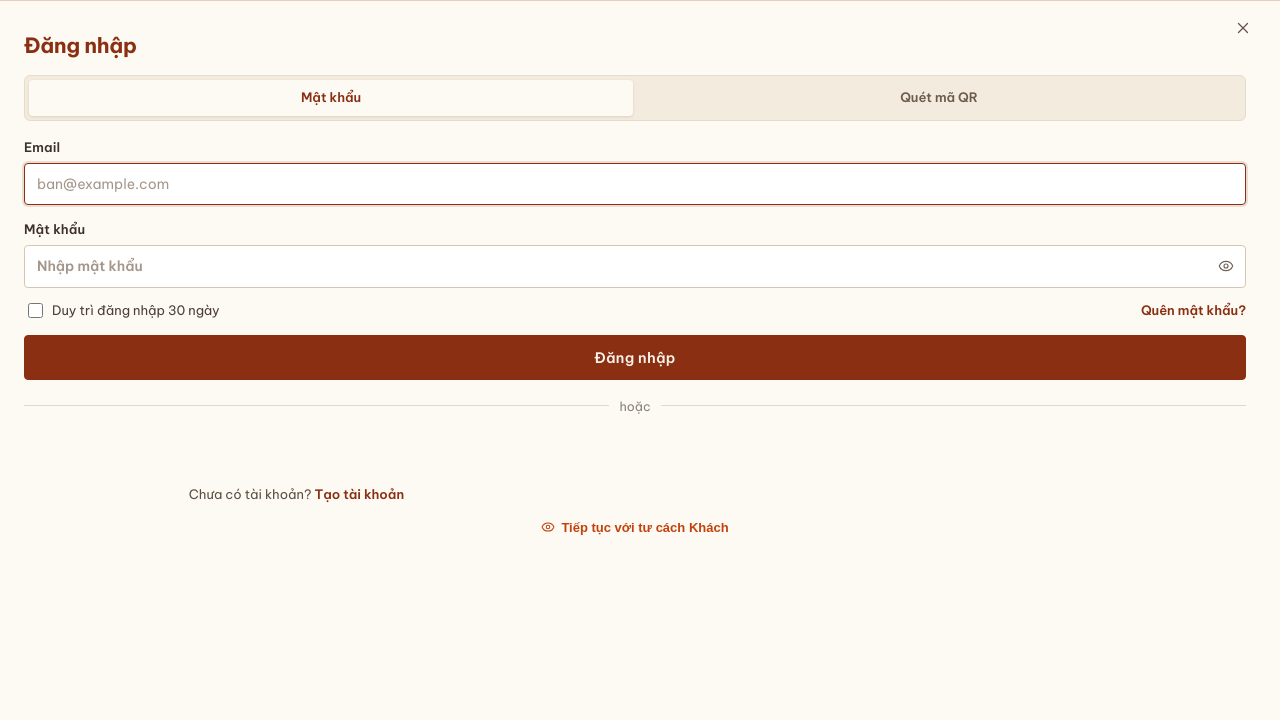
Test: LoginPage › surfaces the server message when login fails with 401
The width and height of the screenshot is (1280, 720).
Type "a@example.com" into the field with placeholder "ban@example.com" at (635, 184), box [24,163,1246,205]
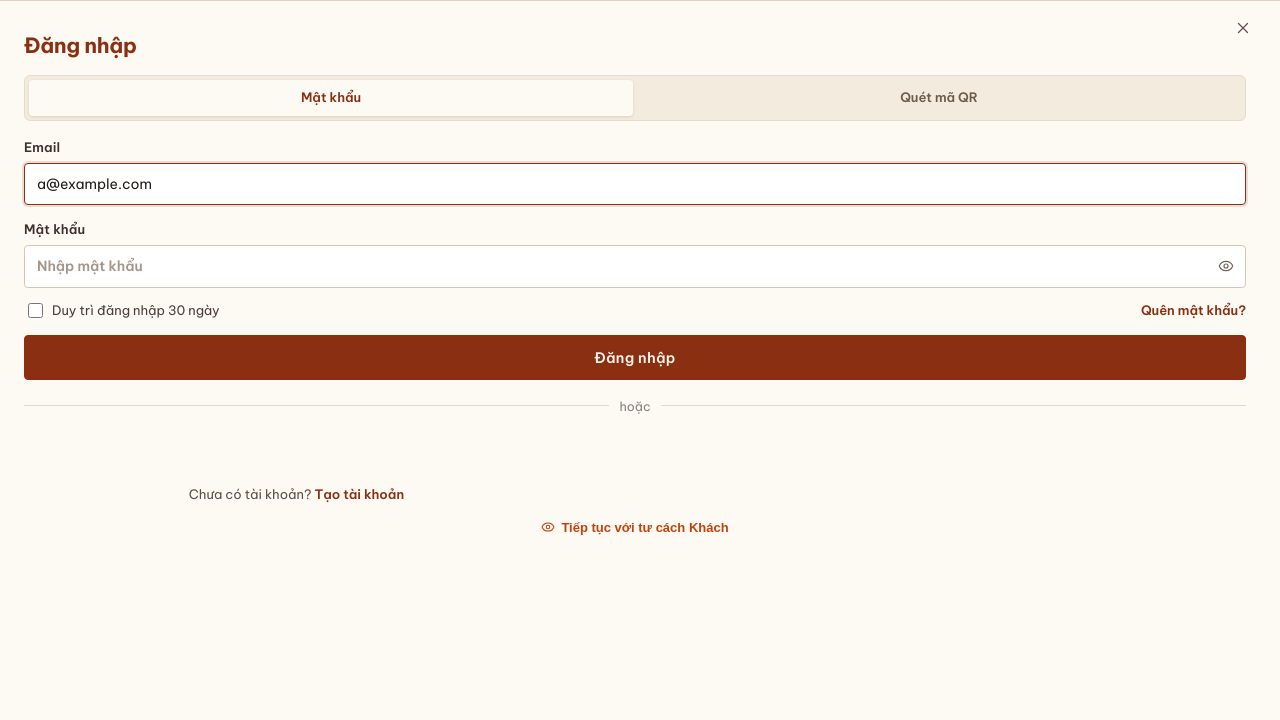
Type "matkhau123" into the password field labelled "Mật khẩu" at (635, 266), box [24,245,1246,288]
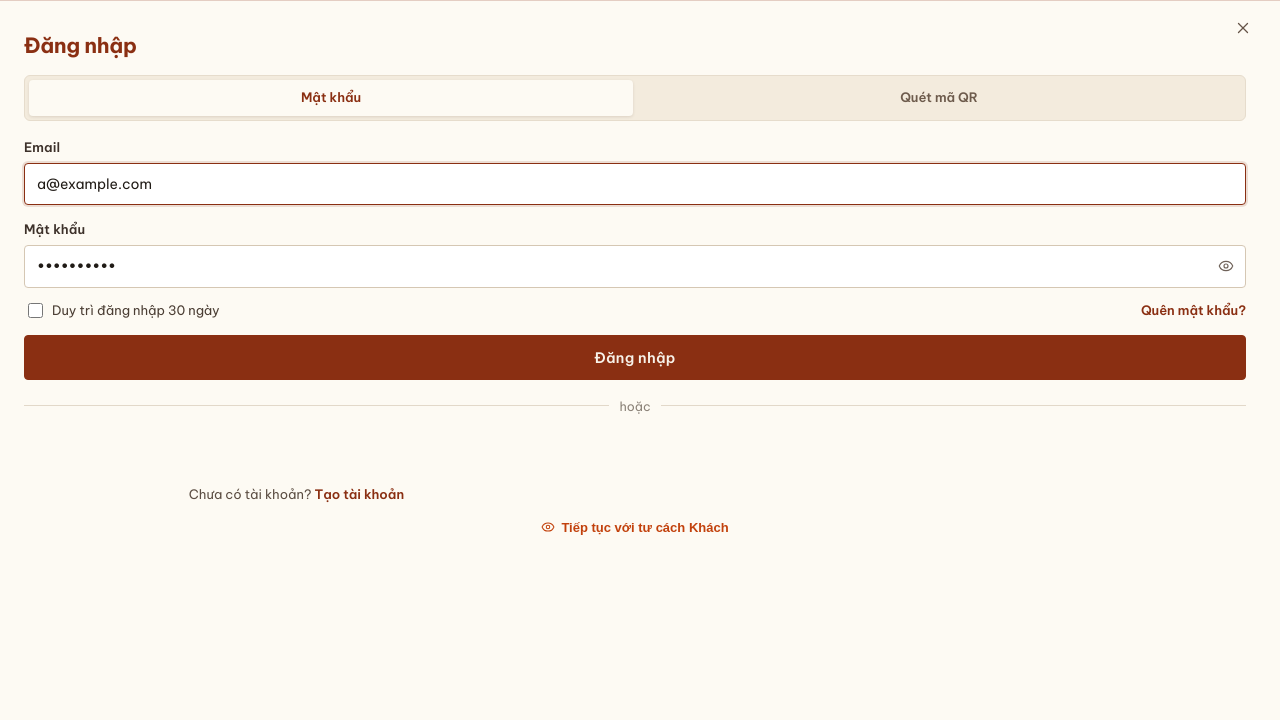
Click the button "Đăng nhập" at (635, 357), box [24,335,1246,380]
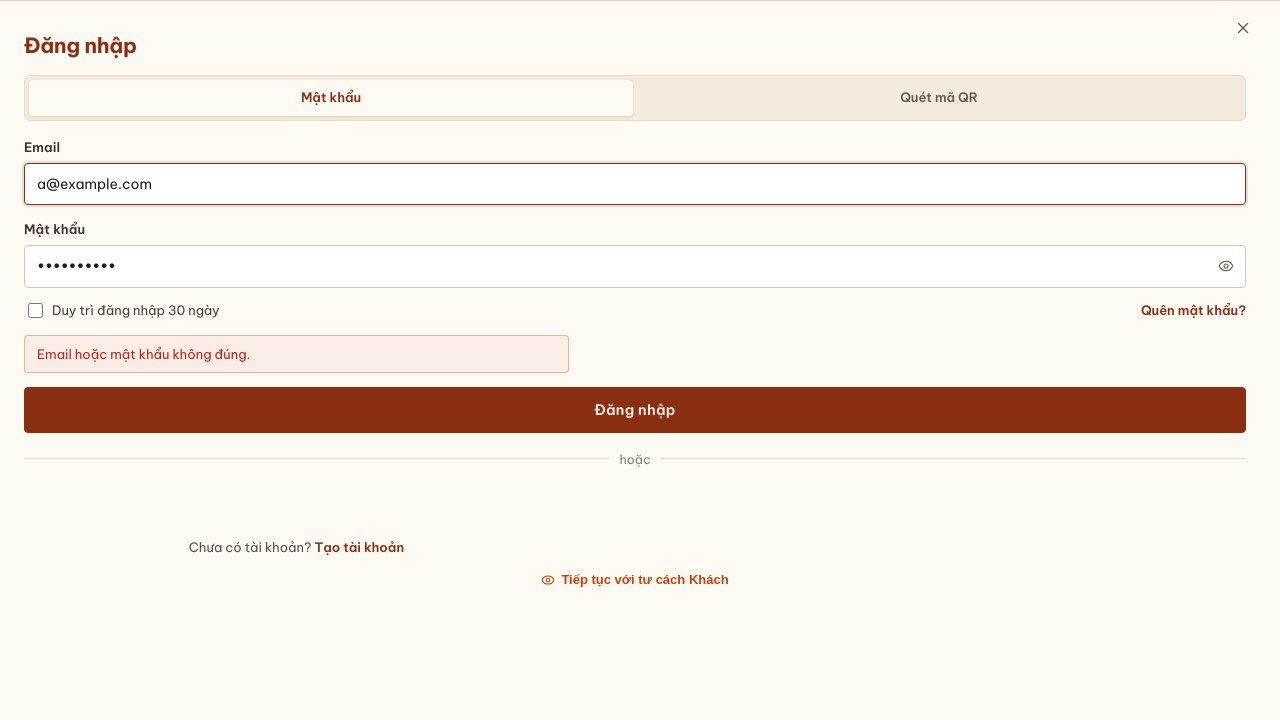
Expected: the message reads "Email hoặc mật khẩu không đúng.", [37,346,250,362]
